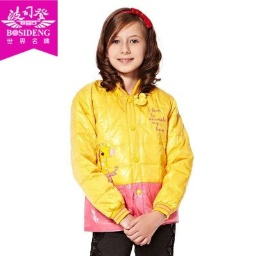face: (90, 4, 169, 94)
